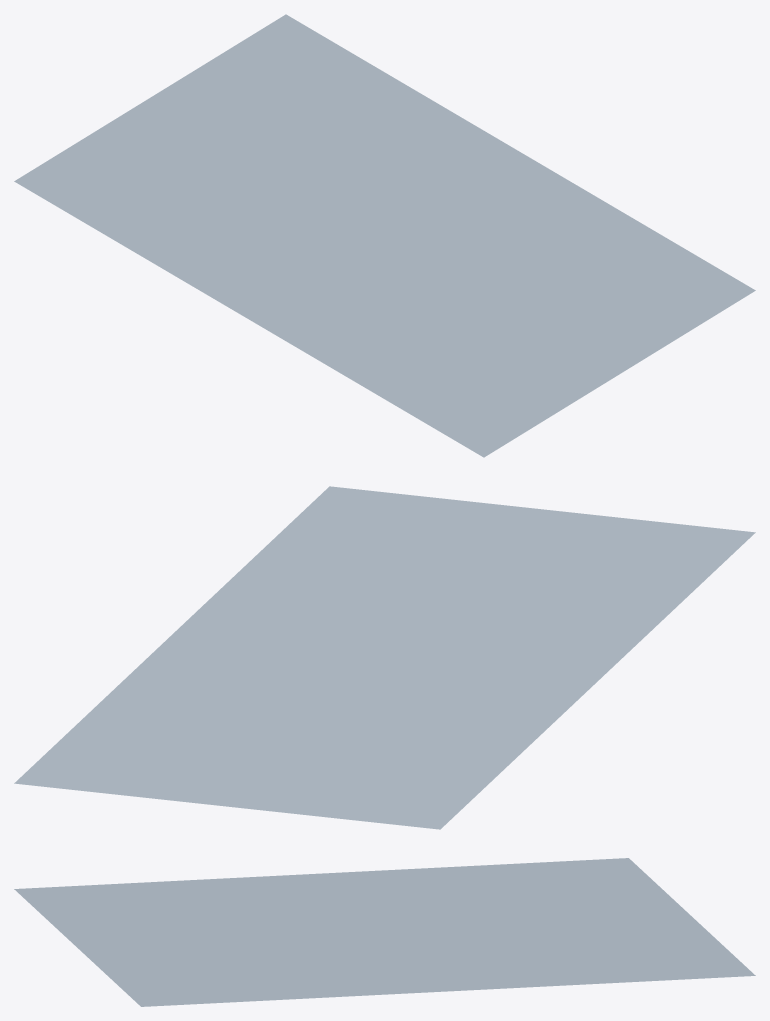
File: capitohamate-interosseous-ligament-l.glb
3 views of the same model, one above another, from view 1: azimuth 30°, elevation 25°; view 2: azimuth 150°, elevation 25°; view 3: azimuth 270°, elevation 25° (orthographic). The views are drawn at different scales.
Parts seen in each view (by area): view 1: Capitohamate interosseous ligament.l; view 2: Capitohamate interosseous ligament.l; view 3: Capitohamate interosseous ligament.l.
Boxes of the visible parts, x1=… form: Capitohamate interosseous ligament.l: x1=14, y1=14, x2=755, y2=457; Capitohamate interosseous ligament.l: x1=14, y1=486, x2=755, y2=829; Capitohamate interosseous ligament.l: x1=14, y1=858, x2=755, y2=1006.
Bounding box in the file's own units: 0.00236 × 0.000131 × 0.00458.
